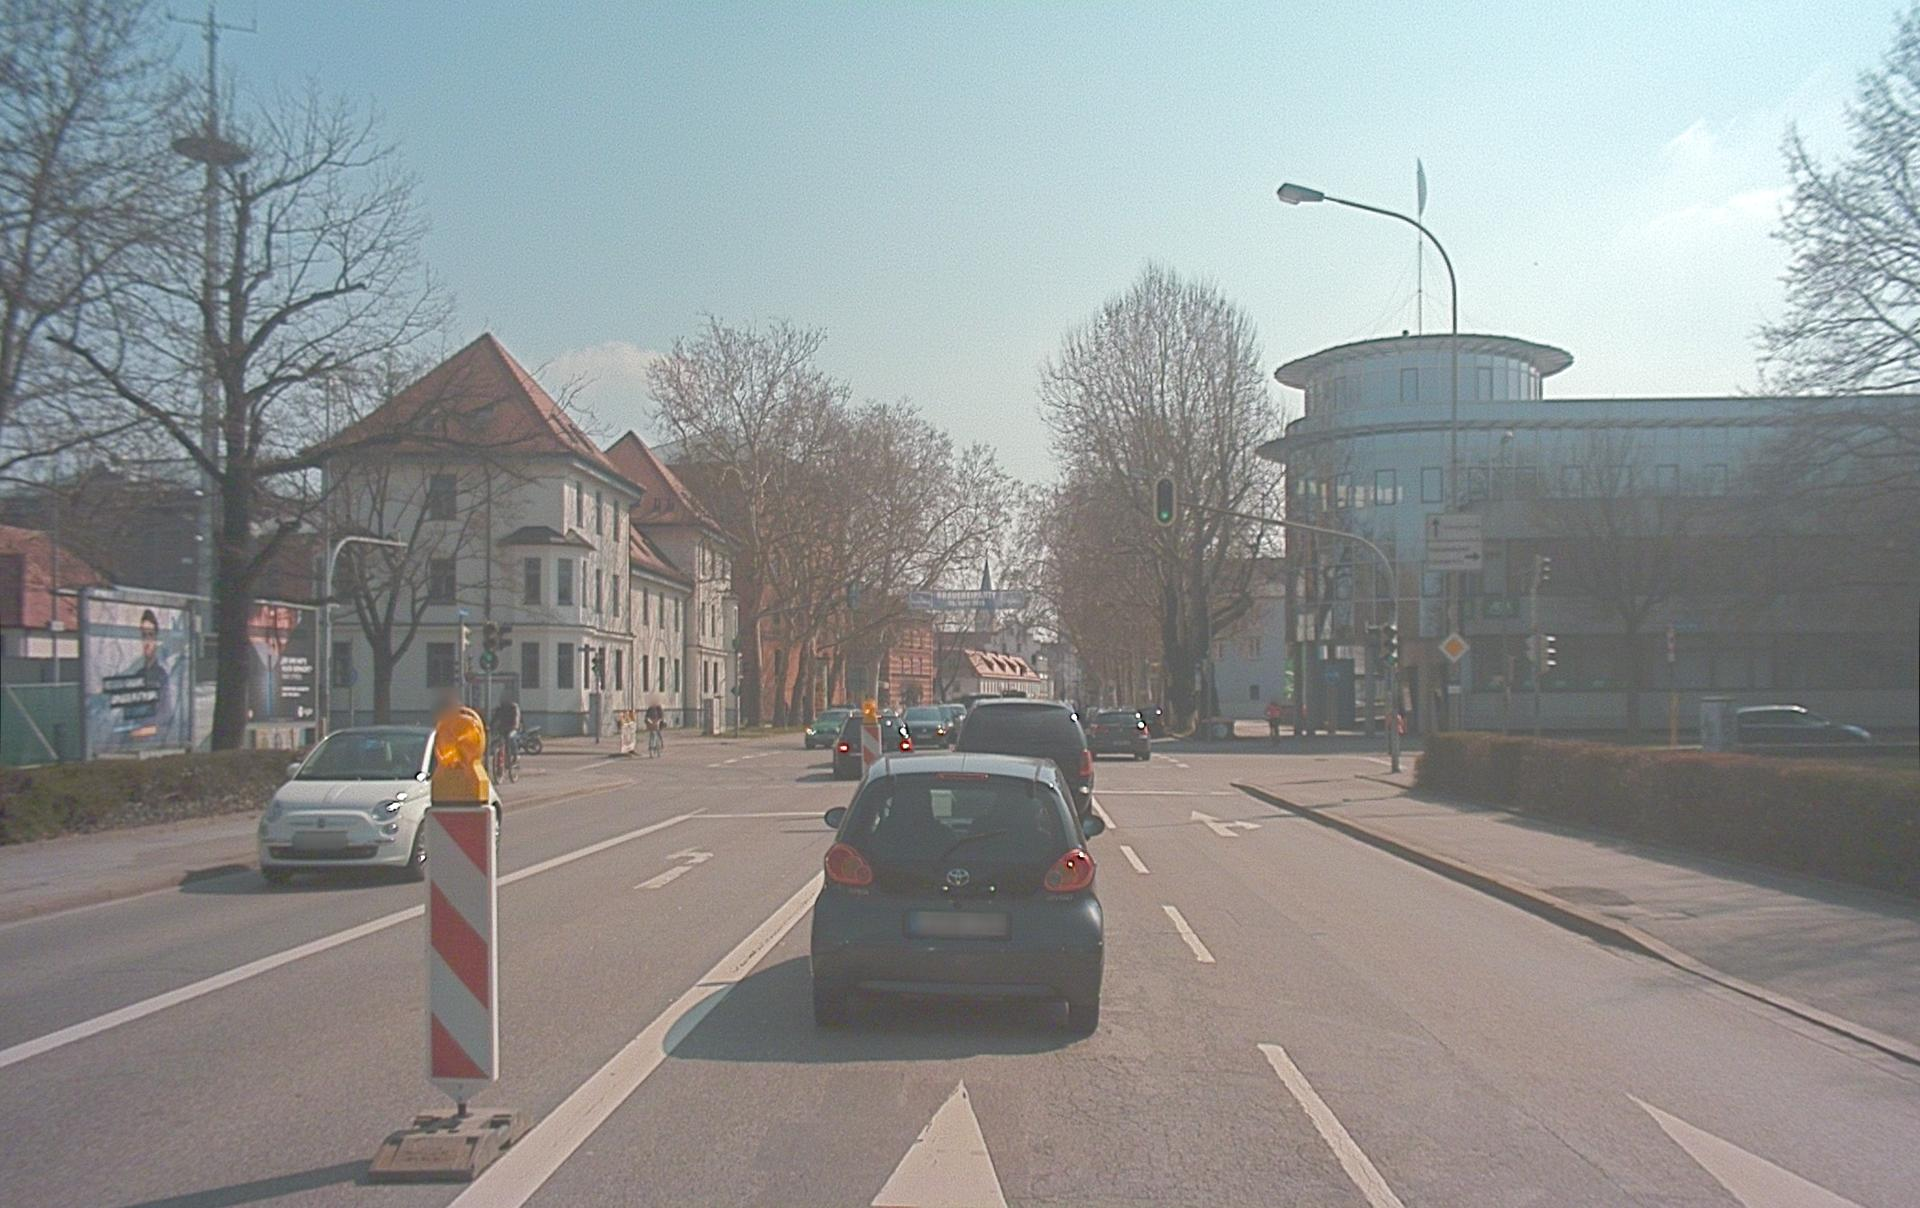car: (810, 752, 1106, 1034), (257, 724, 437, 884), (950, 699, 1095, 821), (1732, 704, 1873, 747), (832, 710, 913, 781), (1084, 708, 1151, 760), (899, 704, 966, 752), (804, 706, 860, 750)
